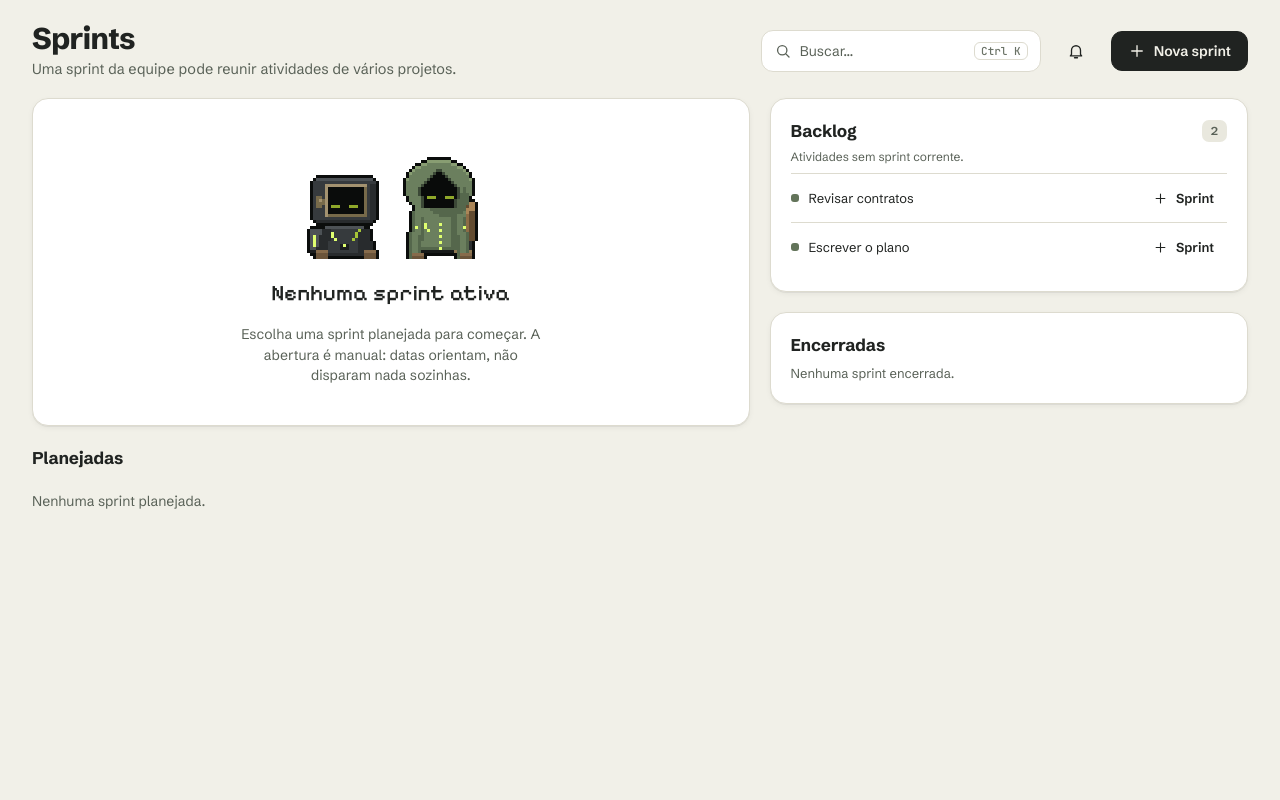
it: Sprints › creates a sprint from the dialog
Click the button "Nova sprint" at {"x": 1179, "y": 51}, box [1111,31,1248,71]
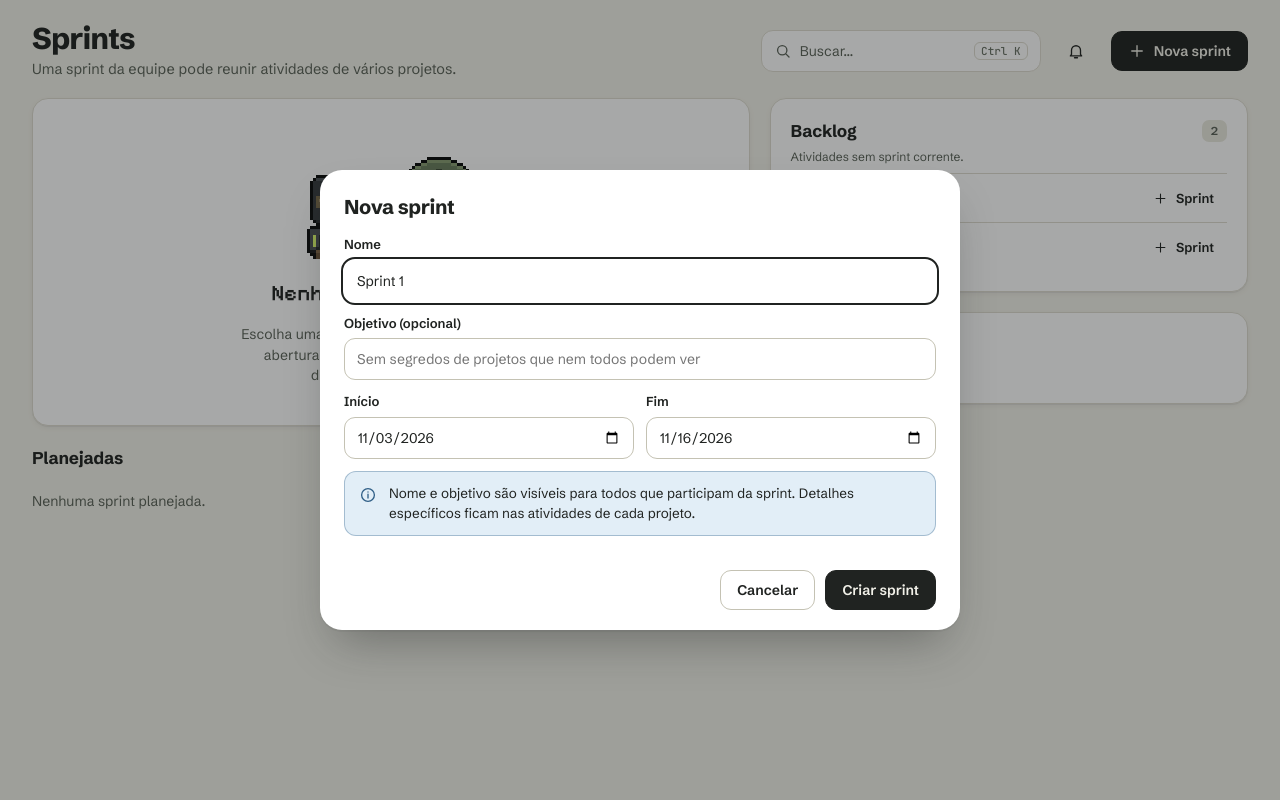
Replace the text in the field labelled "Nome" with "Sprint Alfa" at {"x": 640, "y": 280}, box [344,260,936,302]
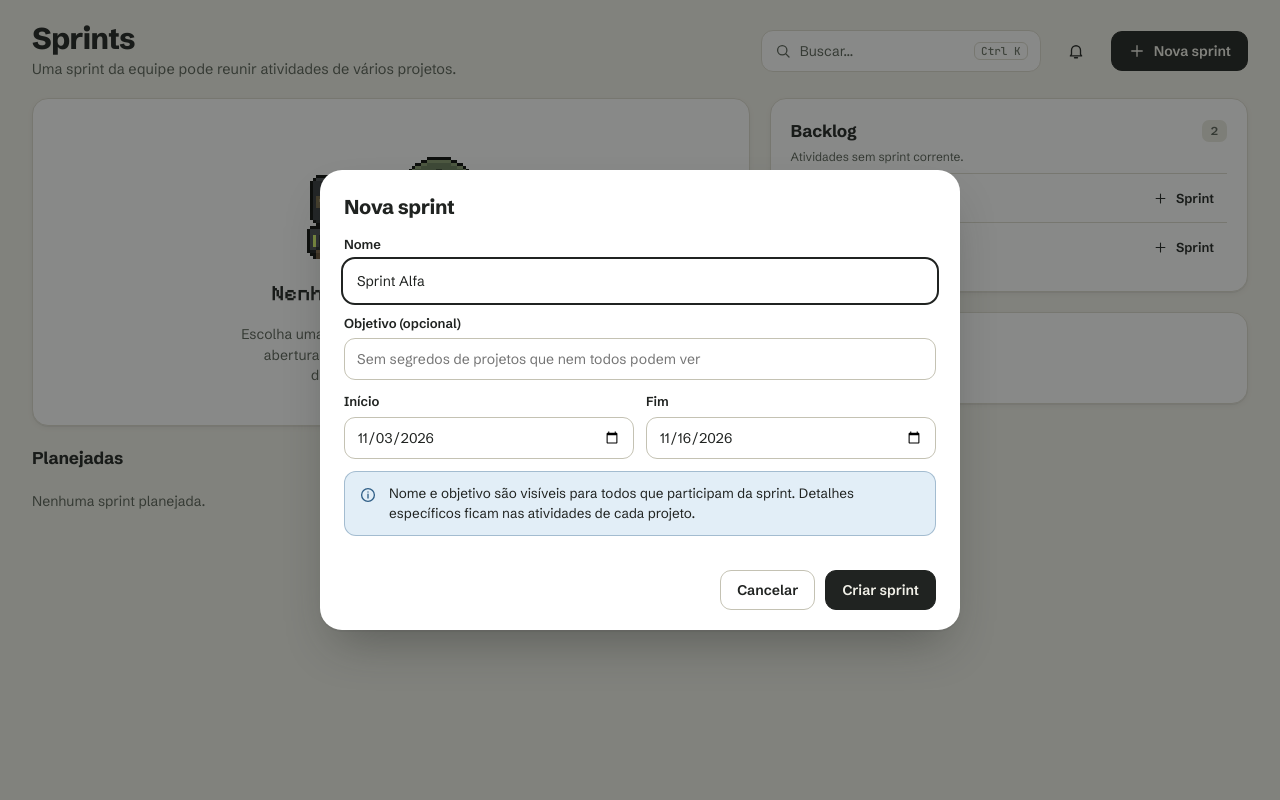
Submit the form labelled "Nome", box [320,227,960,630]
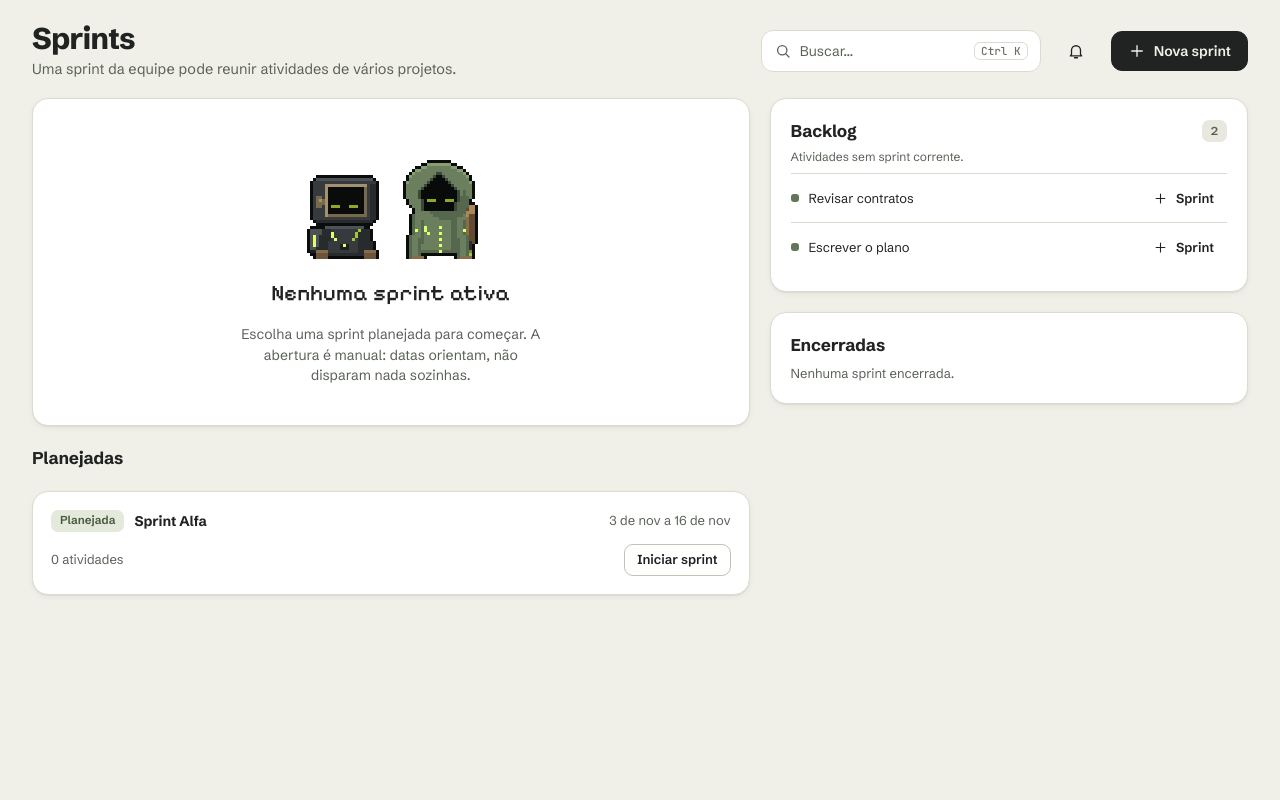
Result: the text "Sprint Alfa" is shown at [134,511,207,531]
